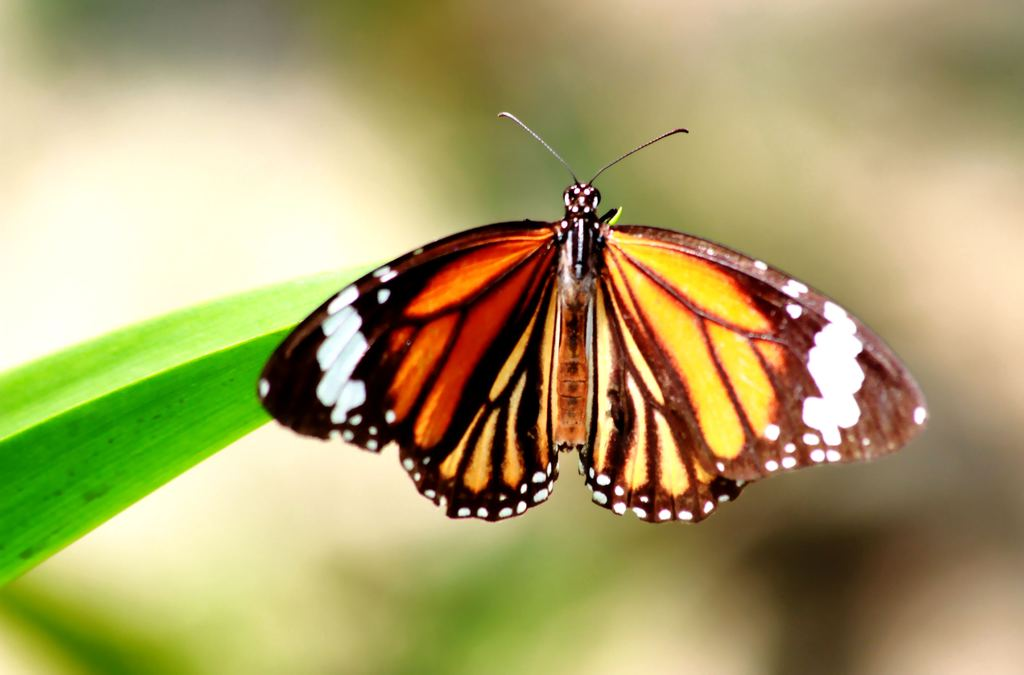Butterfly: (249, 128, 965, 558)
